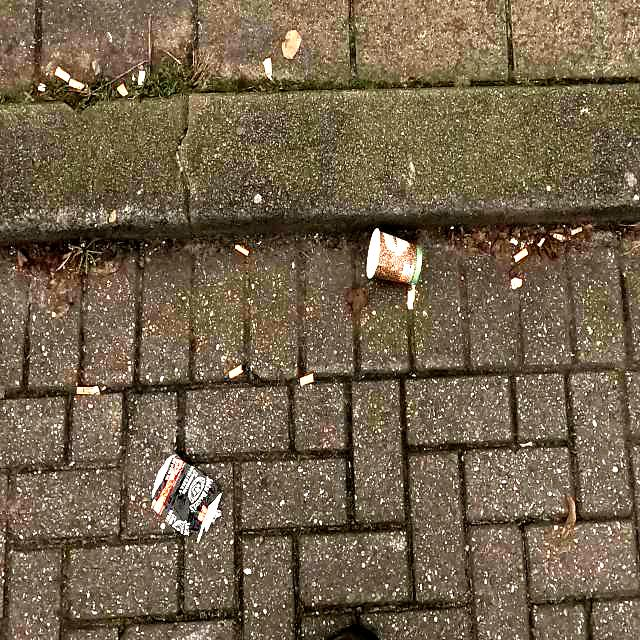Coffee Cup: (365, 226, 423, 286)
Metal: (150, 452, 224, 544)
